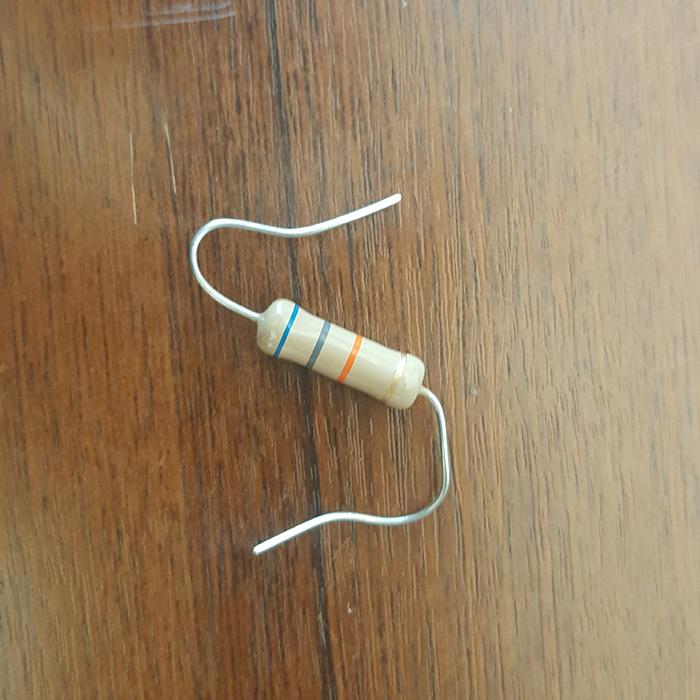resistor: (254, 296, 427, 407)
